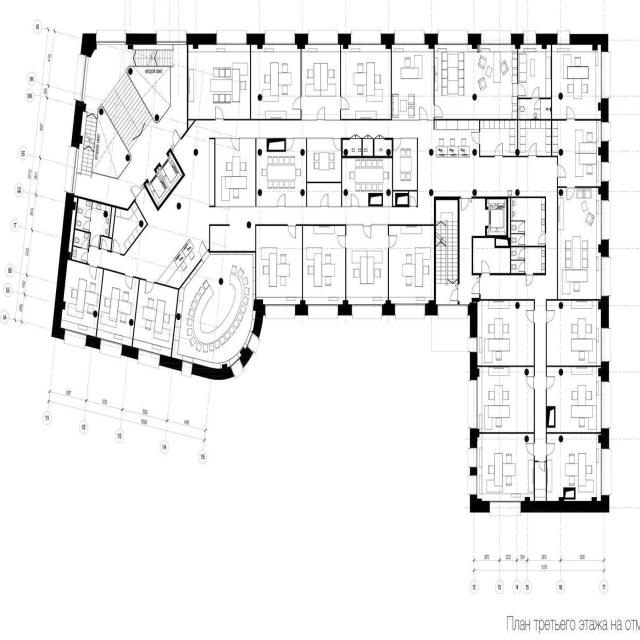Bathrooms: (511, 198, 545, 246), (90, 203, 111, 236), (75, 199, 92, 231), (525, 248, 545, 273), (519, 100, 540, 119), (74, 230, 90, 249), (72, 247, 88, 263), (541, 99, 551, 118), (511, 261, 524, 273), (511, 247, 524, 259), (511, 234, 525, 245), (511, 222, 524, 233)
Corridors: (209, 120, 557, 460), (87, 120, 209, 288), (460, 199, 485, 304), (481, 121, 517, 155), (535, 462, 546, 500), (343, 140, 361, 156), (374, 140, 391, 156), (363, 139, 373, 155), (90, 232, 100, 248), (100, 237, 112, 250), (409, 192, 417, 206)
Doors: (170, 128, 182, 151), (129, 184, 144, 200), (449, 284, 460, 302), (199, 240, 208, 259), (471, 277, 481, 294), (460, 197, 472, 211), (287, 224, 297, 240), (433, 104, 444, 118), (469, 131, 480, 145), (337, 234, 347, 249), (566, 186, 576, 201), (557, 164, 567, 179), (566, 105, 576, 120), (340, 96, 350, 111), (316, 106, 326, 121), (319, 193, 329, 208), (144, 280, 154, 295), (528, 141, 537, 157), (231, 137, 240, 153), (112, 239, 121, 255), (89, 264, 98, 280), (546, 442, 556, 456), (525, 443, 535, 457), (525, 309, 535, 323), (388, 234, 398, 248), (517, 83, 527, 97), (350, 193, 360, 207), (90, 234, 100, 248), (125, 274, 133, 291), (546, 309, 555, 324), (481, 260, 490, 275), (363, 224, 372, 239), (393, 137, 402, 152), (419, 106, 428, 121), (494, 142, 503, 157), (332, 137, 341, 152), (286, 137, 295, 152), (215, 106, 224, 121), (525, 376, 535, 389), (292, 97, 302, 110), (147, 170, 157, 183), (546, 376, 555, 390), (277, 193, 286, 207), (160, 154, 169, 168), (526, 273, 534, 287), (538, 233, 547, 245), (80, 238, 89, 250), (532, 86, 540, 99), (409, 195, 417, 207), (533, 99, 541, 111), (80, 251, 88, 263), (349, 133, 362, 140), (101, 238, 108, 251), (518, 248, 526, 259), (518, 234, 526, 245), (517, 222, 525, 233), (84, 208, 92, 219), (538, 460, 545, 472), (82, 221, 90, 231), (518, 261, 525, 272), (363, 133, 374, 140), (374, 133, 384, 140), (485, 209, 488, 225)
LBwalls: (425, 196, 460, 315), (51, 192, 76, 340), (143, 147, 186, 212), (520, 495, 610, 512), (485, 196, 508, 238), (191, 362, 235, 381), (71, 100, 86, 149), (570, 34, 609, 52), (126, 33, 157, 50), (252, 299, 265, 338), (187, 33, 217, 49), (468, 298, 480, 338), (80, 33, 97, 58), (159, 354, 182, 372), (469, 495, 490, 513), (598, 296, 609, 329), (536, 33, 558, 49), (239, 346, 253, 368), (246, 34, 265, 49), (470, 352, 480, 380), (85, 334, 101, 351), (121, 344, 139, 359), (598, 98, 609, 122), (467, 33, 482, 49), (598, 362, 610, 382), (598, 428, 609, 449), (294, 33, 308, 49), (381, 33, 395, 49), (424, 33, 438, 49), (338, 300, 352, 316), (338, 33, 351, 50), (382, 299, 395, 316), (598, 142, 609, 162), (598, 181, 609, 201), (511, 33, 524, 49), (295, 300, 308, 316), (470, 428, 480, 448), (598, 240, 609, 257), (154, 163, 162, 174), (470, 467, 478, 476), (524, 434, 530, 443), (514, 301, 520, 310), (246, 220, 252, 229), (176, 202, 182, 211), (154, 113, 160, 122), (257, 93, 263, 102), (558, 189, 564, 197), (385, 148, 391, 156), (343, 148, 349, 156), (257, 189, 263, 197), (218, 277, 224, 285), (138, 220, 144, 228), (193, 148, 199, 156), (558, 434, 563, 443), (343, 188, 348, 197), (300, 188, 305, 197), (103, 209, 108, 218), (558, 368, 563, 376), (524, 368, 529, 376), (558, 302, 563, 310), (558, 148, 563, 156), (429, 149, 434, 157), (386, 189, 391, 197), (125, 154, 130, 162), (99, 108, 104, 116), (93, 310, 98, 318), (129, 318, 134, 326), (300, 148, 305, 156), (257, 148, 262, 156), (515, 189, 520, 196), (515, 149, 520, 156), (472, 149, 477, 156), (472, 189, 477, 196), (429, 189, 434, 196), (176, 313, 181, 320)
Offices: (172, 251, 256, 368), (435, 45, 517, 118), (558, 188, 601, 298), (188, 45, 250, 118), (477, 434, 534, 501), (251, 45, 301, 119), (341, 45, 391, 119), (478, 367, 534, 432), (547, 434, 601, 501), (256, 226, 302, 304), (478, 301, 534, 365), (552, 45, 601, 118), (547, 367, 601, 432), (389, 226, 434, 303), (133, 280, 178, 357), (547, 301, 601, 365), (257, 139, 306, 206), (303, 226, 345, 304), (347, 226, 388, 304), (97, 270, 139, 346), (552, 121, 601, 186), (61, 261, 103, 336), (392, 45, 434, 119), (302, 45, 340, 120), (216, 139, 255, 206), (342, 159, 392, 206), (112, 203, 147, 254), (518, 45, 551, 97), (307, 139, 341, 181), (473, 238, 510, 273), (393, 139, 417, 190), (518, 120, 551, 155), (307, 183, 341, 206)
Stairs: (75, 45, 187, 209), (436, 200, 458, 304)
Walls: (433, 44, 567, 165), (546, 177, 601, 310), (223, 44, 317, 121), (209, 224, 288, 299), (340, 49, 420, 121), (69, 195, 149, 266), (341, 137, 418, 208), (209, 137, 286, 208), (154, 258, 202, 357), (490, 196, 546, 276), (285, 138, 341, 207), (296, 224, 346, 300), (181, 45, 216, 140), (478, 323, 535, 377), (480, 388, 535, 443), (546, 389, 601, 444), (546, 322, 601, 376), (96, 266, 125, 337), (146, 153, 183, 207), (131, 276, 146, 347), (479, 294, 535, 311), (371, 224, 434, 236), (472, 236, 485, 278), (359, 193, 392, 208), (479, 144, 495, 157), (534, 455, 538, 501), (563, 487, 576, 500), (545, 457, 547, 501), (255, 138, 256, 206), (434, 49, 435, 105), (388, 248, 389, 300), (340, 45, 341, 97), (575, 119, 601, 121), (345, 248, 346, 300), (503, 155, 528, 157), (301, 49, 302, 96), (575, 186, 598, 188), (517, 49, 518, 82), (347, 224, 363, 226), (325, 119, 340, 121), (328, 206, 341, 208), (427, 119, 433, 121), (479, 121, 480, 132), (540, 109, 541, 119), (143, 186, 145, 189), (171, 148, 173, 151), (90, 219, 91, 221)
Windows: (64, 145, 80, 194), (73, 53, 89, 102), (601, 51, 611, 99), (601, 448, 611, 496), (468, 380, 478, 428), (395, 303, 425, 319), (490, 501, 521, 516), (352, 304, 383, 319), (64, 329, 86, 350), (99, 338, 122, 358), (138, 348, 161, 368), (601, 382, 611, 428), (438, 304, 468, 319), (308, 304, 338, 319), (265, 304, 295, 319), (96, 30, 126, 44), (157, 30, 187, 44), (217, 30, 247, 44), (265, 31, 295, 45), (308, 30, 338, 44), (351, 30, 381, 44), (438, 30, 468, 44), (481, 30, 511, 44), (395, 30, 424, 44), (601, 200, 611, 240), (601, 257, 611, 296), (601, 328, 611, 362), (248, 333, 261, 354), (231, 359, 244, 379), (601, 161, 611, 182), (181, 360, 193, 377), (468, 475, 478, 495), (601, 122, 611, 141), (467, 448, 477, 467), (523, 30, 536, 44), (557, 30, 570, 44), (467, 337, 478, 352)
